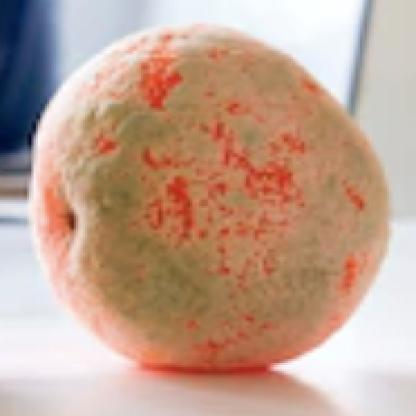rotten: (25, 26, 391, 373)
